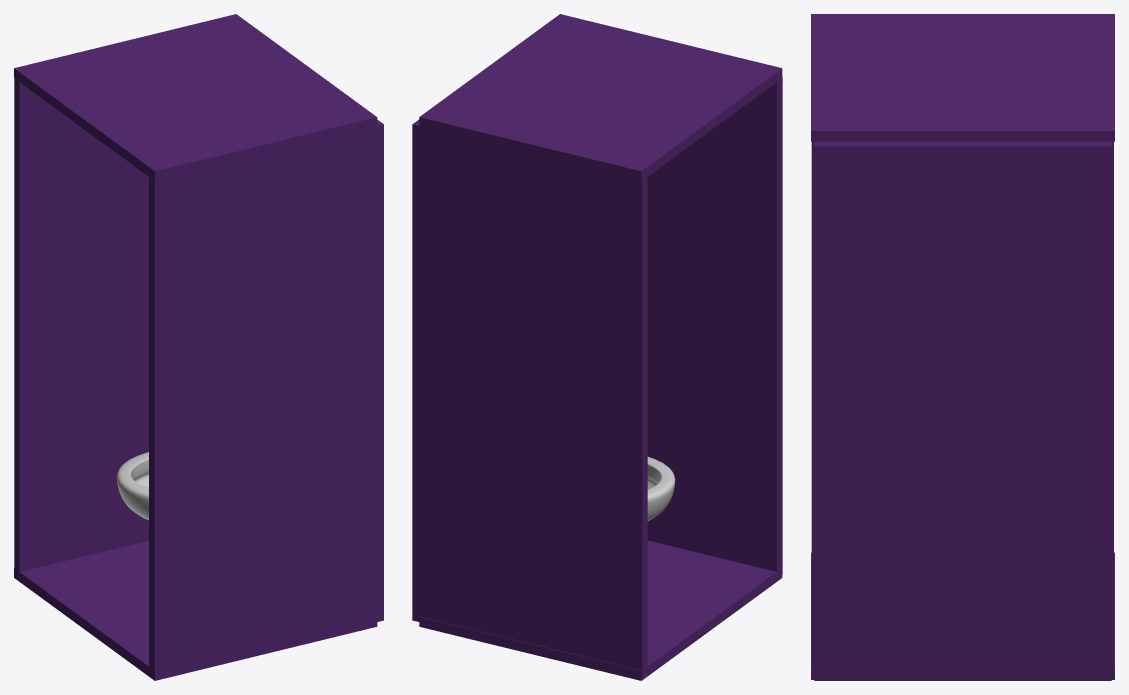
The model's file is bano.fbx.
3 views of the same model, side by side, from view 1: azimuth 30°, elevation 25°; view 2: azimuth 150°, elevation 25°; view 3: azimuth 270°, elevation 25° (orthographic). The views are drawn at different scales.
Parts seen in each view (by area): view 1: default, bano; view 2: default, bano; view 3: default.
Boxes of the visible parts, x1=… form: default: x1=14, y1=14, x2=383, y2=680; bano: x1=116, y1=452, x2=148, y2=520; default: x1=412, y1=14, x2=782, y2=680; bano: x1=647, y1=456, x2=675, y2=521; default: x1=811, y1=14, x2=1114, y2=680.
Size of the model in its own units: 4.15 by 8.76 by 4.39.
